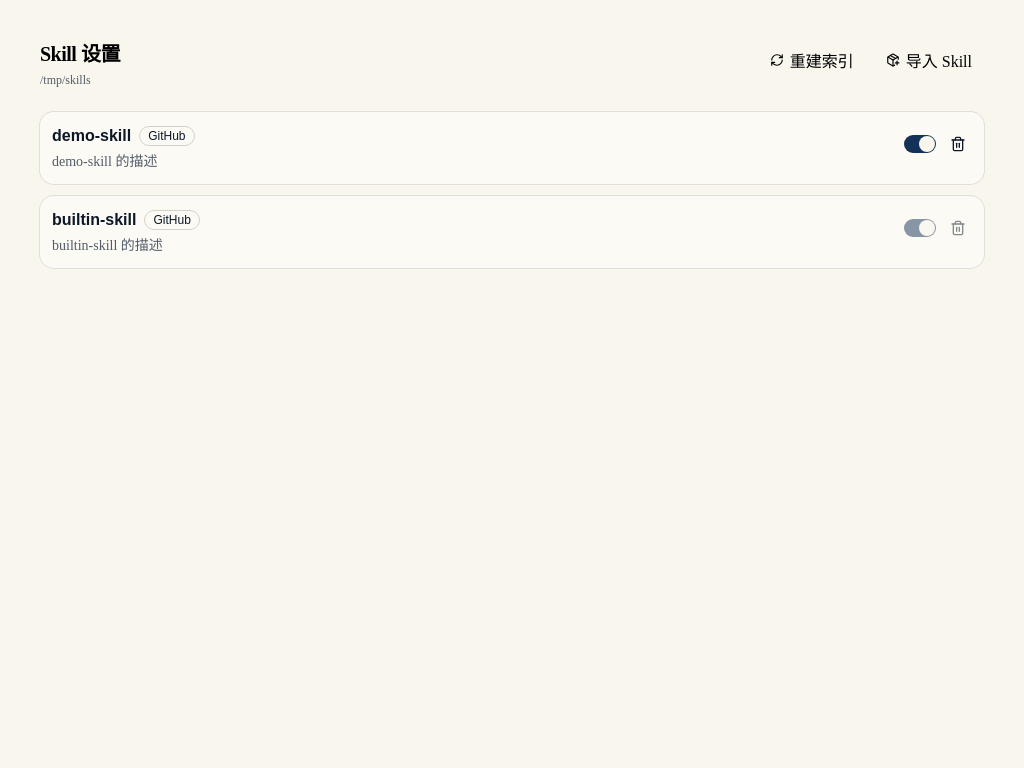
Scenario: skillManage 删除二次确认 › 点击「取消」关闭弹层且不删除
Click the button named "删除 demo-skill" in the row of "demo-skill 的描述" at (958, 144), box [944,124,972,164]
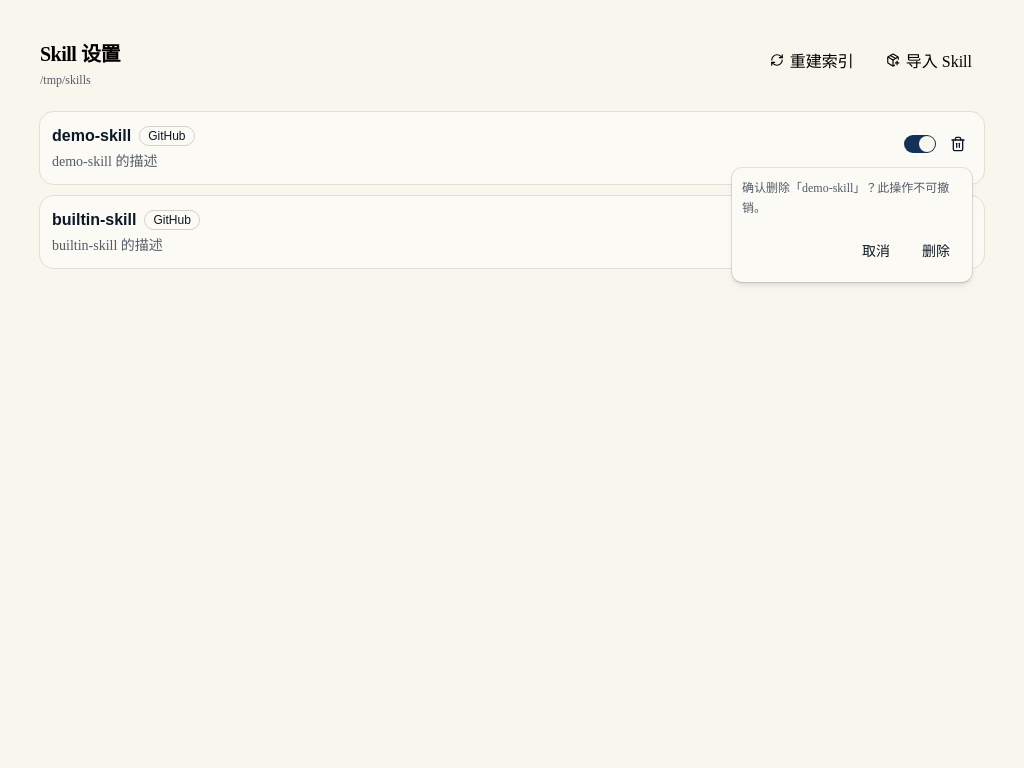
Click the button "取消" at (876, 252), box [850,232,902,272]
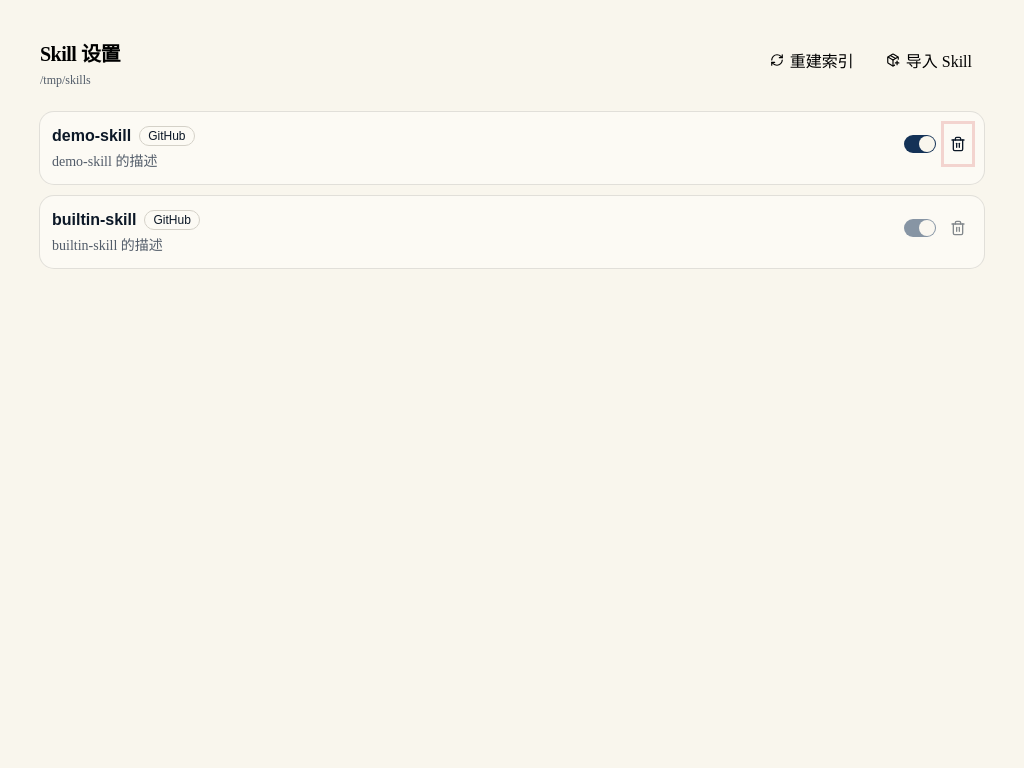
Expected: the text "确认删除「demo-skill」" is gone
